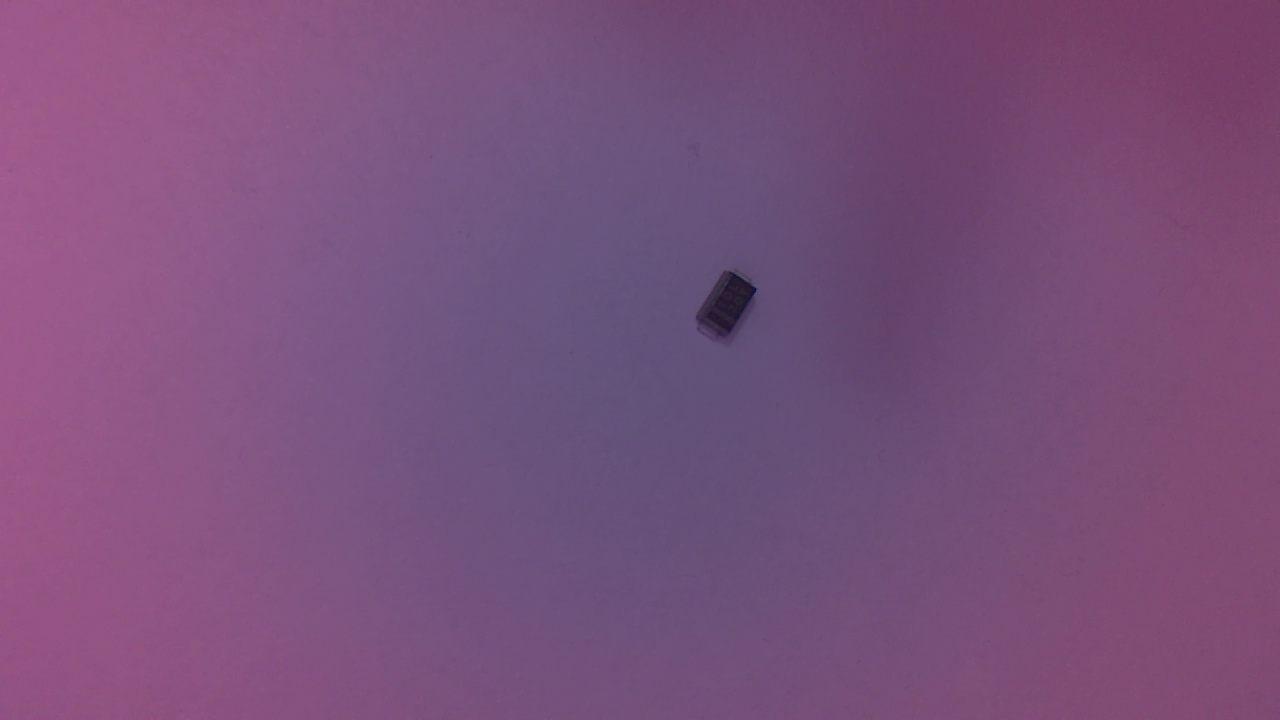Diode: (698, 267, 766, 352)
